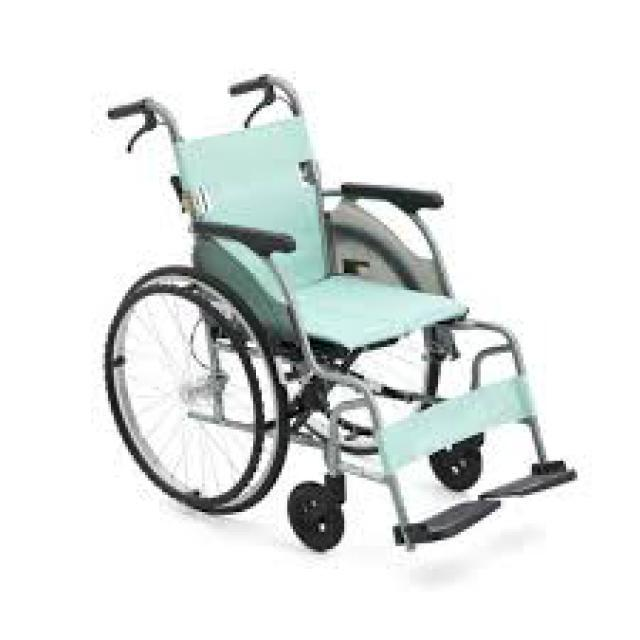wheelchair: (71, 68, 589, 583)
